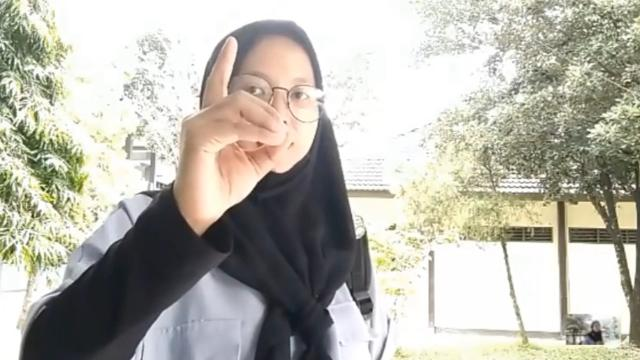D: (175, 36, 293, 220)
